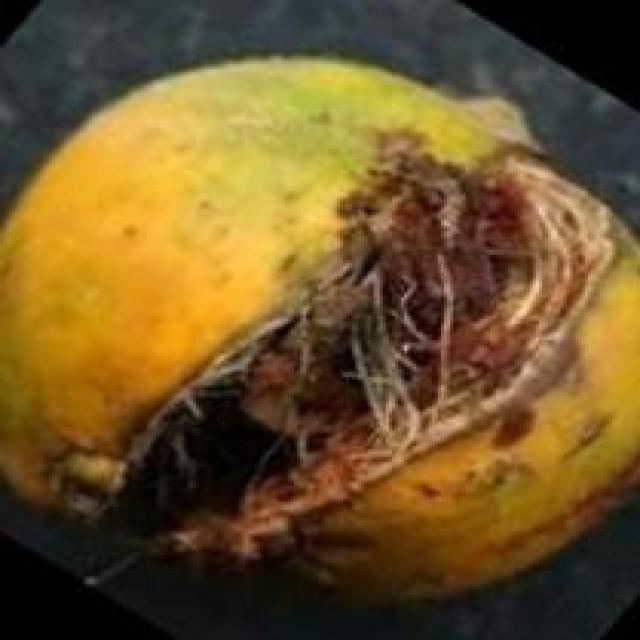damaged: (0, 56, 637, 598)
